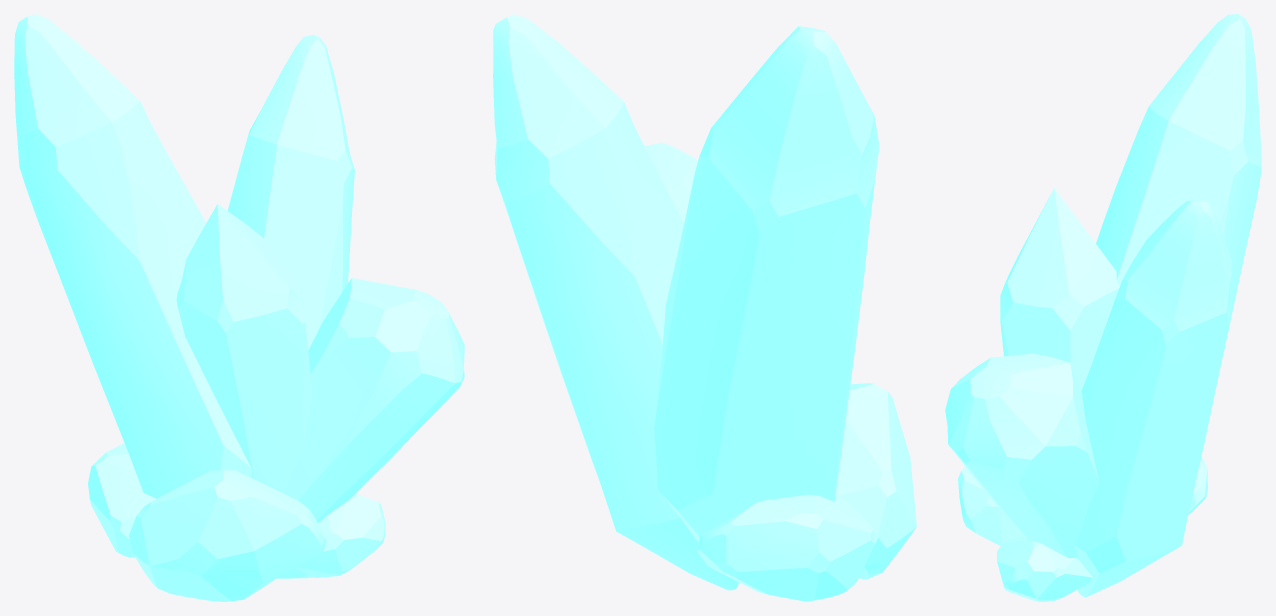
The model's file is Crystal4.FBX.
The picture shows the model from 3 angles, left to right: view 1: azimuth 30°, elevation 25°; view 2: azimuth 150°, elevation 25°; view 3: azimuth 270°, elevation 25°; orthographic projection. The views are drawn at different scales.
Parts seen in each view (by area): view 1: Cristalli_4; view 2: Cristalli_4; view 3: Cristalli_4.
Boxes of the visible parts, box(x1,y1,x2,y2) form: Cristalli_4: box(14, 14, 464, 601); Cristalli_4: box(493, 14, 916, 601); Cristalli_4: box(945, 14, 1261, 601).
Bounding box in the file's own units: 11.46 × 17.55 × 9.79.
Materials: 1 (1 with a texture image).
